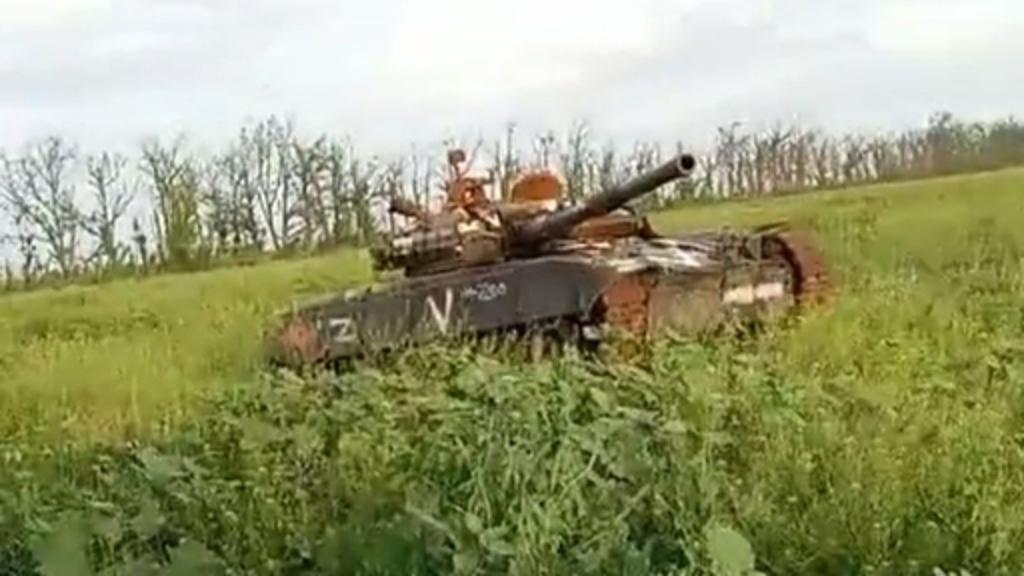TANK: (250, 144, 836, 416)
